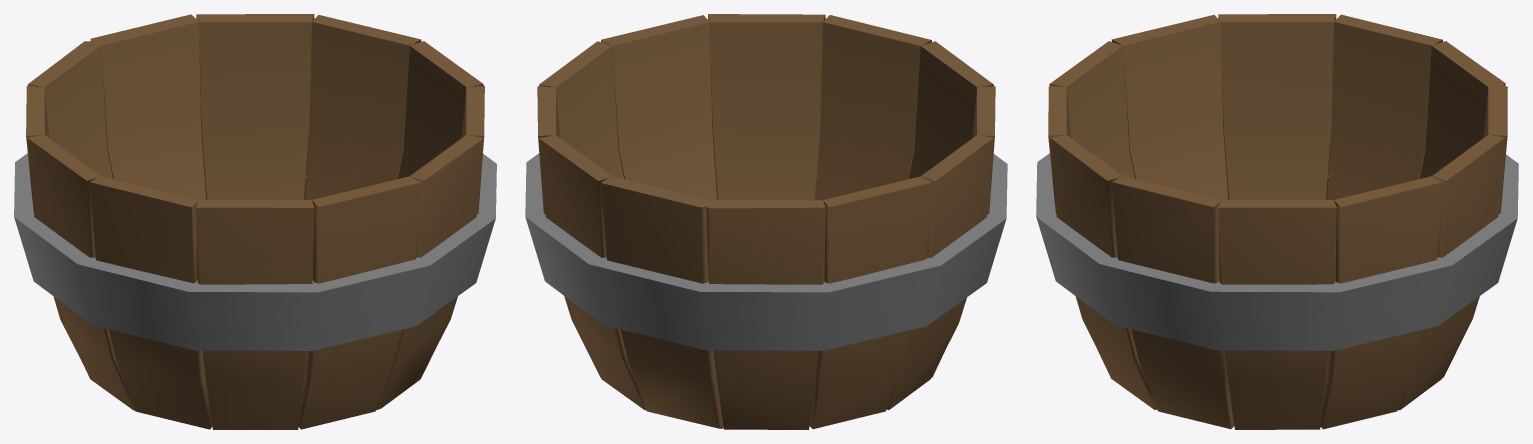
File: SM_Props_Basket_02.obj
3 views of the same model, side by side, from view 1: azimuth 30°, elevation 25°; view 2: azimuth 150°, elevation 25°; view 3: azimuth 270°, elevation 25° (orthographic).
Visible parts, largest first — view 1: SM_Props_Basket_02_M_LowPolyFarm_MAIN; view 2: SM_Props_Basket_02_M_LowPolyFarm_MAIN; view 3: SM_Props_Basket_02_M_LowPolyFarm_MAIN.
Boxes of the visible parts, left/top/right/bottom form: SM_Props_Basket_02_M_LowPolyFarm_MAIN: left=14, top=14, right=496, bottom=429; SM_Props_Basket_02_M_LowPolyFarm_MAIN: left=525, top=14, right=1007, bottom=429; SM_Props_Basket_02_M_LowPolyFarm_MAIN: left=1036, top=14, right=1518, bottom=429.
Size of the model in its own units: 0.556 by 0.3173 by 0.556.
Materials: 1 (1 with a texture image).
